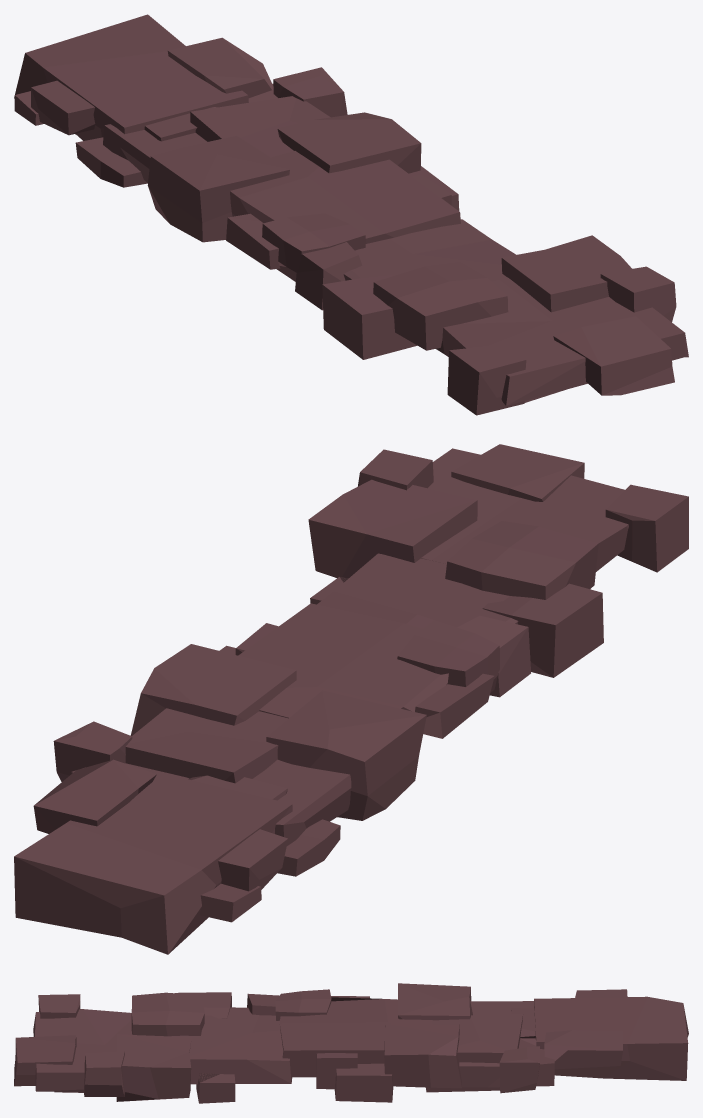
The model's file is Short Puzzle Bridge.fbx.
3 renders of one model, top to bottom at view 1: azimuth 30°, elevation 25°; view 2: azimuth 150°, elevation 25°; view 3: azimuth 270°, elevation 25°, orthographic. The views are drawn at different scales.
Parts seen in each view (by area): view 1: Cube.015; view 2: Cube.015; view 3: Cube.015.
Part boxes in pixels (x1=…): Cube.015: x1=14, y1=14, x2=688, y2=415; Cube.015: x1=14, y1=444, x2=688, y2=954; Cube.015: x1=14, y1=983, x2=688, y2=1103.
Size of the model in its own units: 1039 by 277 by 3187.
